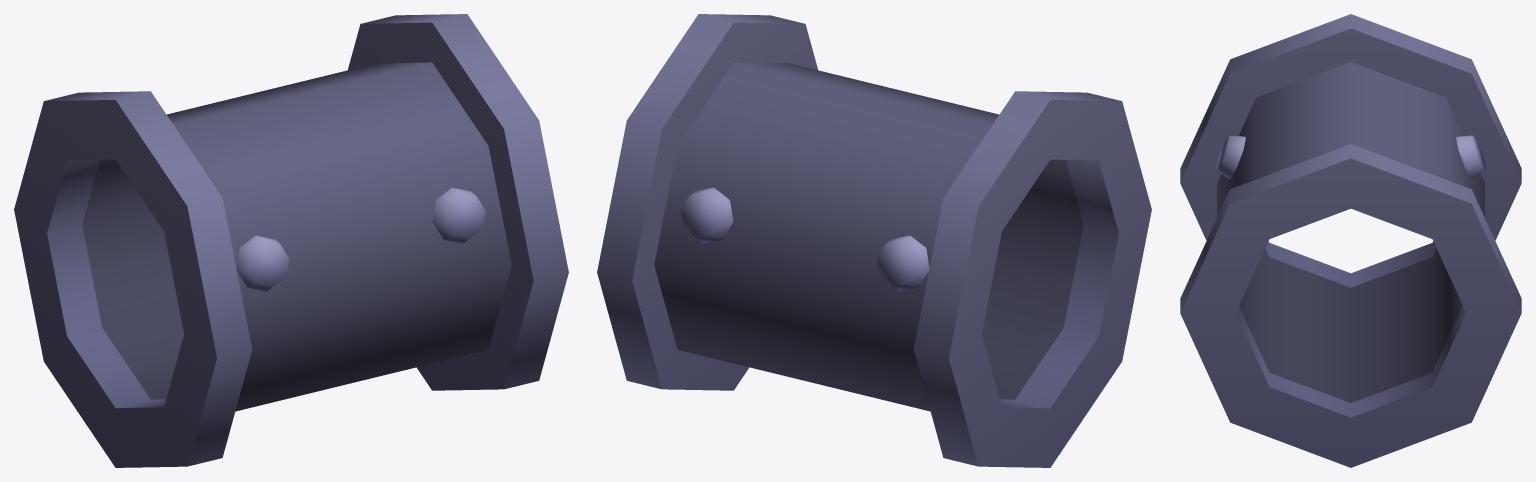
The model's file is kenney-factory-pipe-large.glb.
The picture shows the model from 3 angles, left to right: view 1: azimuth 30°, elevation 25°; view 2: azimuth 150°, elevation 25°; view 3: azimuth 270°, elevation 25°; orthographic projection. The views are drawn at different scales.
Visible parts, largest first — view 1: pipe-large; view 2: pipe-large; view 3: pipe-large.
Part boxes in pixels (<box>): pipe-large: <box>14,14,568,467</box>; pipe-large: <box>597,14,1151,467</box>; pipe-large: <box>1180,14,1521,467</box>.
Size of the model in its own units: 1.5 by 1.5 by 1.5.
1 material, 1 textured.
